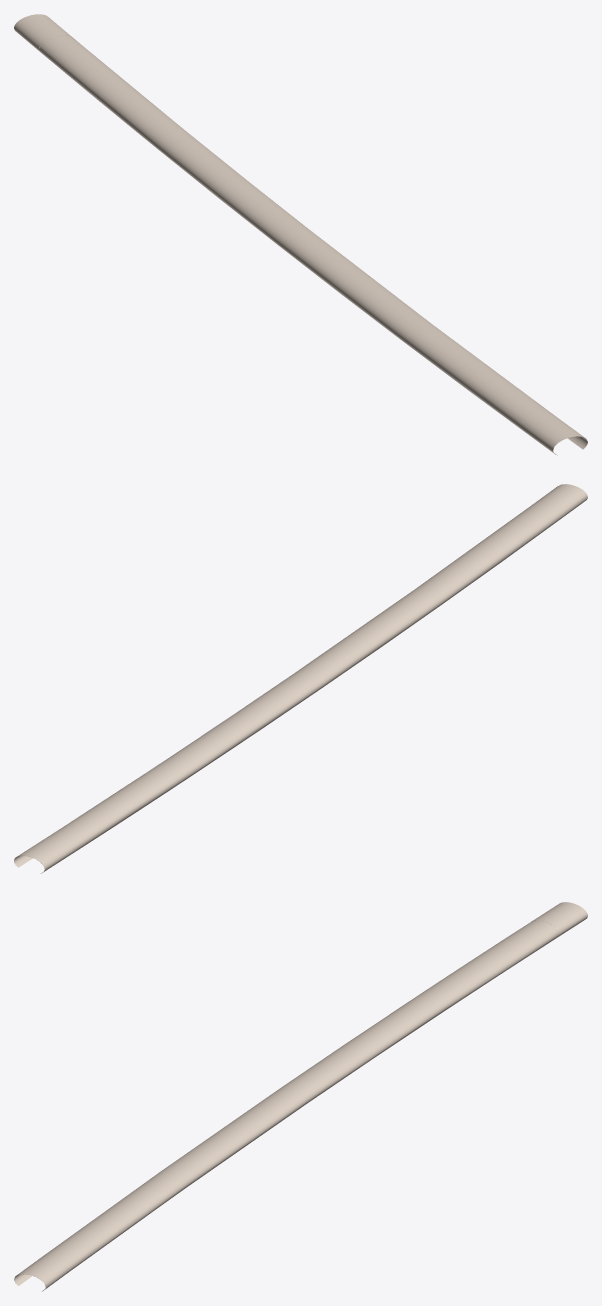
The model's file is dipole.dae.
3 renders of one model, top to bottom at view 1: azimuth 30°, elevation 25°; view 2: azimuth 150°, elevation 25°; view 3: azimuth 330°, elevation 25°, orthographic. The views are drawn at different scales.
Parts seen in each view (by area): view 1: Volumenkörper1_001, Volumenkörper2_001; view 2: Volumenkörper1_001, Volumenkörper2_001; view 3: Volumenkörper1_001, Volumenkörper2_001.
Boxes of the visible parts, <box> form: Volumenkörper1_001: <box>39,35,587,455</box>; Volumenkörper2_001: <box>14,14,72,51</box>; Volumenkörper1_001: <box>46,484,587,853</box>; Volumenkörper2_001: <box>14,837,72,873</box>; Volumenkörper1_001: <box>14,920,559,1291</box>; Volumenkörper2_001: <box>531,902,587,936</box>.
Bounding box in the file's own units: 221 × 3414 × 51.35.
